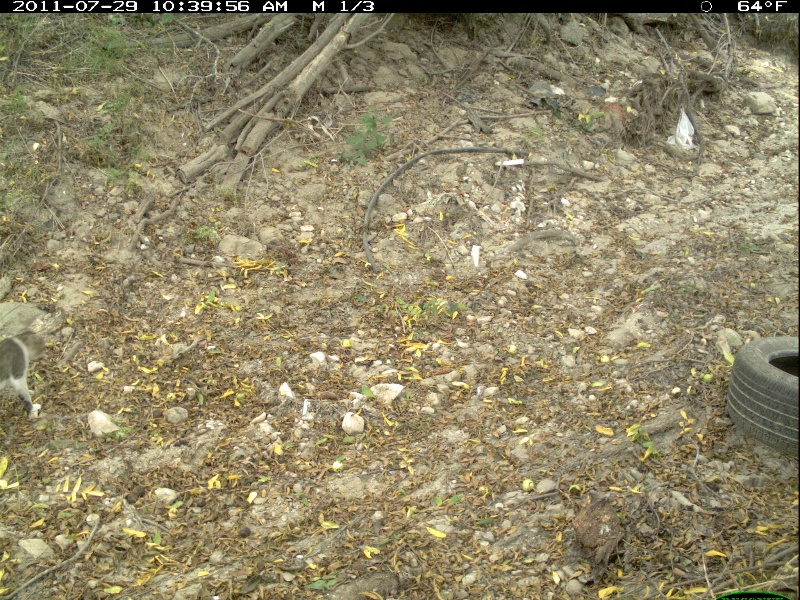cat: (1, 323, 48, 422)
